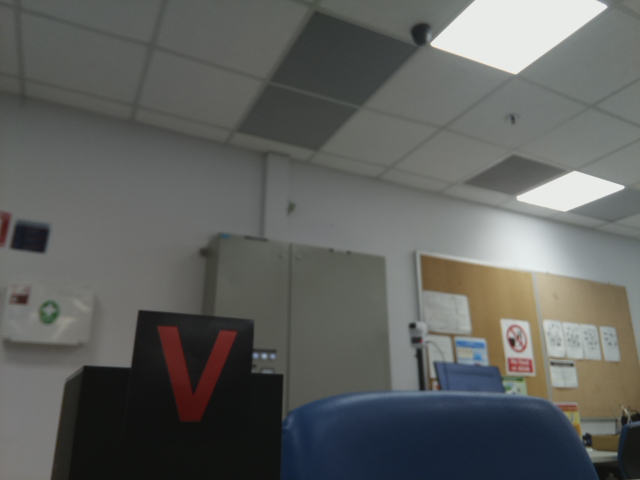v: (147, 329, 247, 432)
